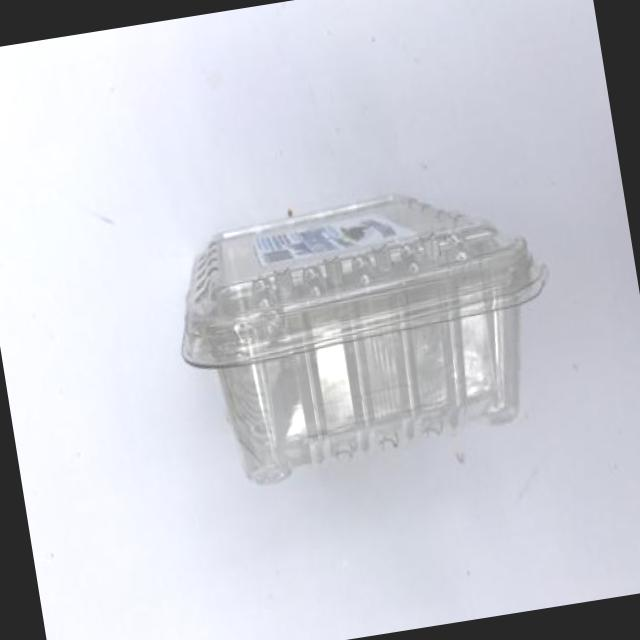Recycle: (161, 175, 577, 498)
